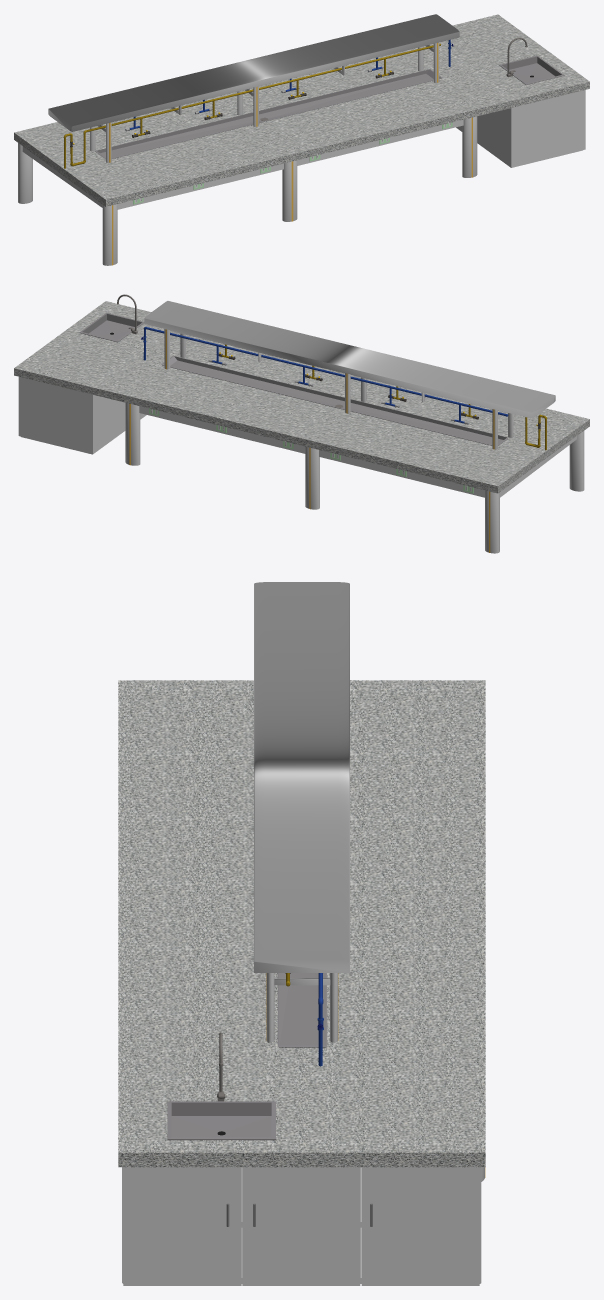
Rendered from Mesa.fbx.
The picture shows the model from 3 angles, top to bottom: view 1: azimuth 30°, elevation 25°; view 2: azimuth 150°, elevation 25°; view 3: azimuth 270°, elevation 25°; orthographic projection. The views are drawn at different scales.
Parts seen in each view (by area): view 1: Mesa, repisa, Cajon, Soporte, Canaleta, Tuberia, Lavamanos; view 2: Mesa, repisa, Soporte, Cajon, Canaleta, Tuberia.001, Lavamanos, Tuberia; view 3: Mesa, repisa, Puerta1, Puerta2, Puerta3, Lavamanos, Canaleta, Cajon.
Boxes of the visible parts, x1,y1,x2,y2 form: Mesa: (14,14,589,206); repisa: (48,14,459,162); Cajon: (456,90,583,167); Soporte: (18,116,477,265); Canaleta: (95,69,442,159); Tuberia: (63,43,440,168); Lavamanos: (499,55,564,84); Mesa: (14,301,589,493); repisa: (144,301,555,449); Soporte: (125,402,584,553); Cajon: (20,377,146,454); Canaleta: (161,355,508,445); Tuberia.001: (143,327,508,423); Lavamanos: (79,312,144,342); Tuberia: (222,344,547,450); Mesa: (118,680,485,1167); repisa: (254,582,349,1042); Puerta1: (123,1167,241,1285); Puerta2: (242,1167,360,1285); Puerta3: (361,1167,479,1285); Lavamanos: (167,1101,275,1140); Canaleta: (277,973,327,1047); Cajon: (122,1167,481,1283).
Bounding box in the file's own units: 700 × 163 × 230.
18 materials, 1 textured.
